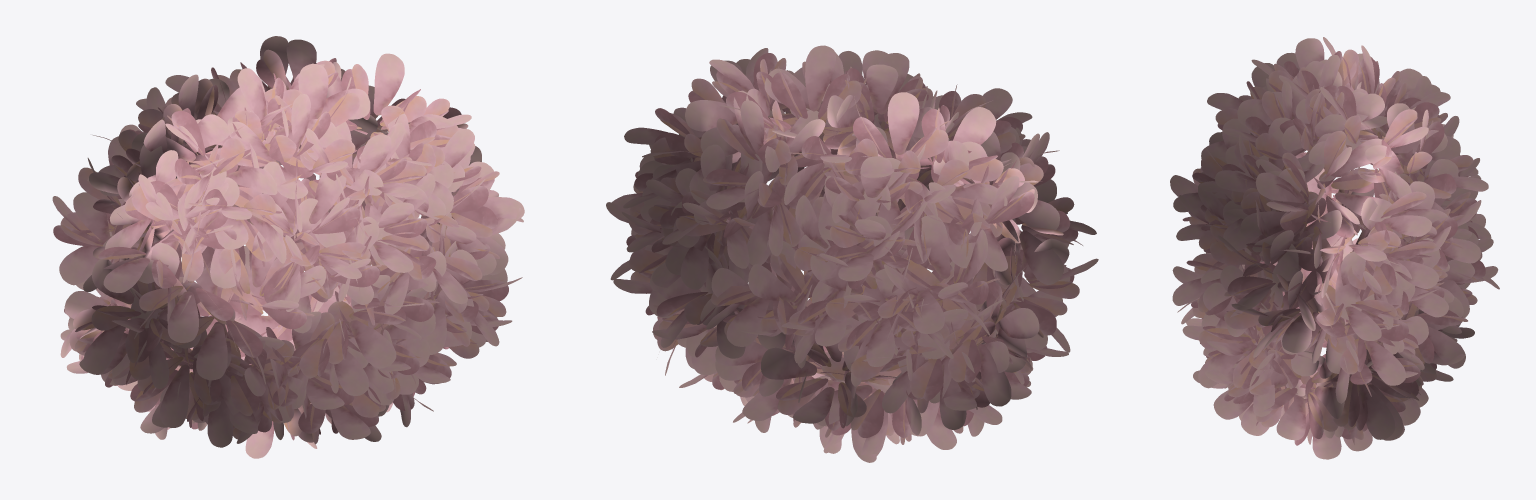
The model's file is Mesh_Foliage1_feuille.fbx.
3 views of the same model, side by side, from view 1: azimuth 30°, elevation 25°; view 2: azimuth 150°, elevation 25°; view 3: azimuth 270°, elevation 25° (orthographic). The views are drawn at different scales.
Visible parts, largest first — view 1: feuillage; view 2: feuillage; view 3: feuillage.
Boxes of the visible parts, left/top/right/bottom form: feuillage: left=52, top=36, right=524, bottom=458; feuillage: left=606, top=45, right=1098, bottom=462; feuillage: left=1170, top=37, right=1499, bottom=459.
Size of the model in its own units: 310 by 258 by 222.
